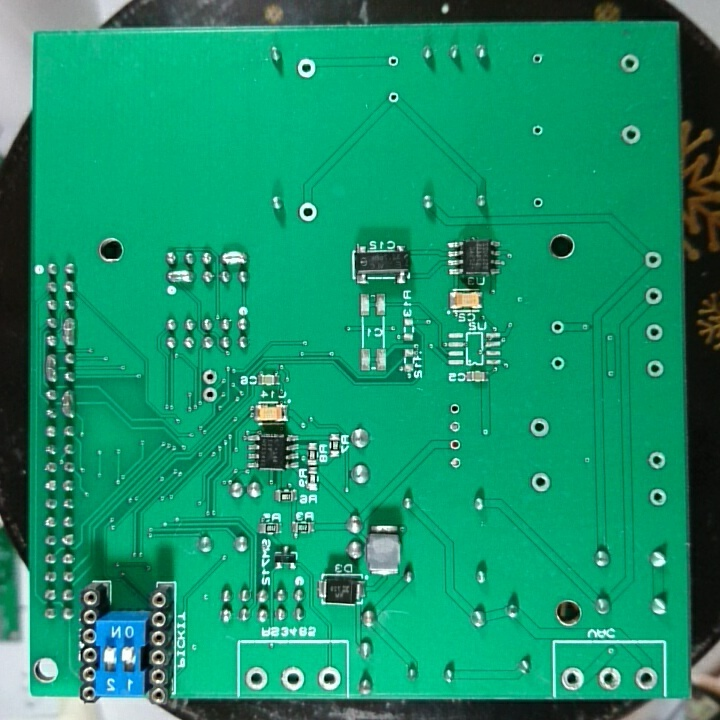F: (559, 664, 585, 693), (317, 663, 342, 692), (280, 665, 305, 694), (245, 665, 270, 693), (634, 666, 659, 693), (597, 665, 622, 692), (297, 200, 320, 226), (619, 123, 642, 149), (528, 469, 550, 496), (528, 415, 551, 440), (618, 52, 642, 75), (646, 449, 669, 472), (295, 56, 317, 80), (642, 249, 664, 272), (643, 284, 665, 307), (644, 321, 666, 343), (647, 487, 668, 509), (645, 358, 665, 380), (548, 318, 568, 338), (200, 385, 219, 405), (200, 368, 219, 386), (384, 52, 402, 71), (447, 454, 465, 472), (549, 355, 568, 372), (385, 89, 402, 107), (447, 400, 463, 418), (446, 435, 462, 453), (447, 418, 463, 435), (530, 51, 545, 68), (529, 123, 545, 138), (531, 195, 545, 212)
P: (42, 349, 60, 386), (60, 315, 78, 348), (59, 388, 77, 420), (165, 267, 196, 285), (219, 249, 249, 267)
